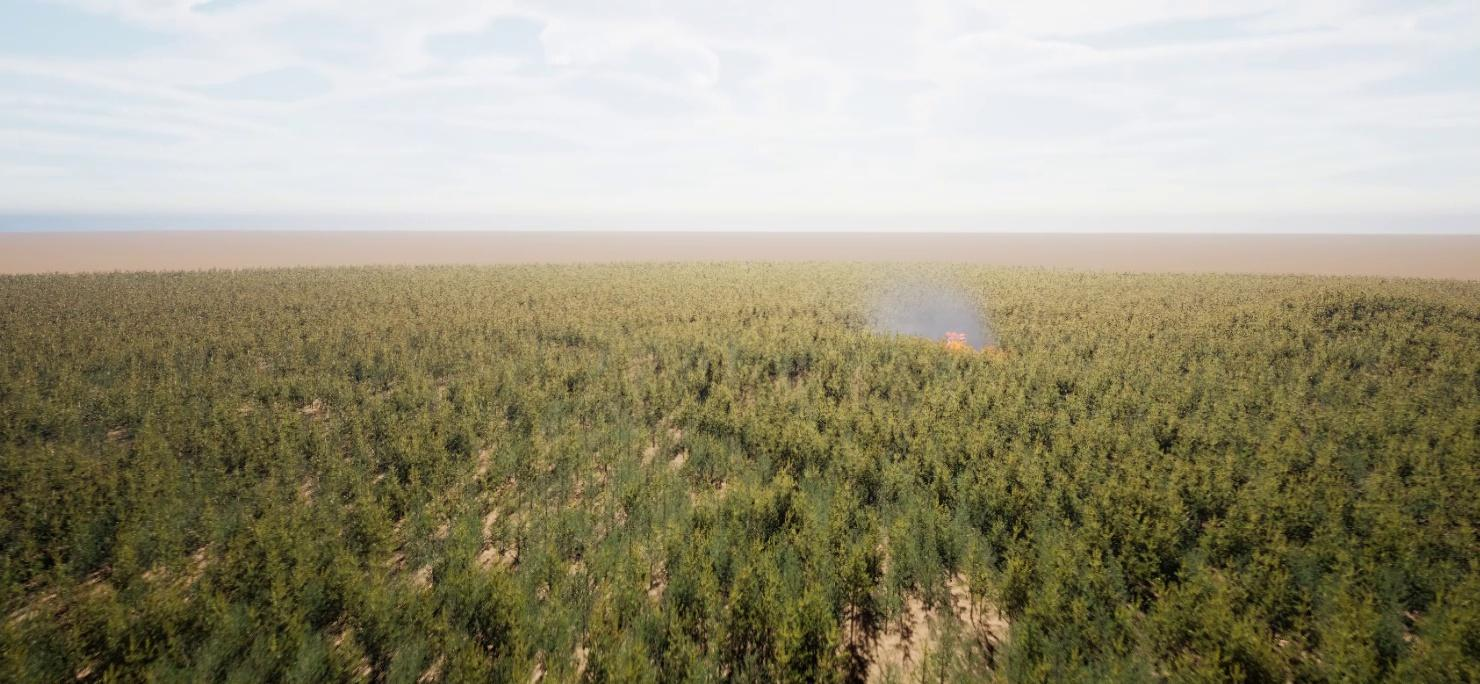fire: (944, 324, 974, 349)
smoke: (863, 271, 1006, 358)
